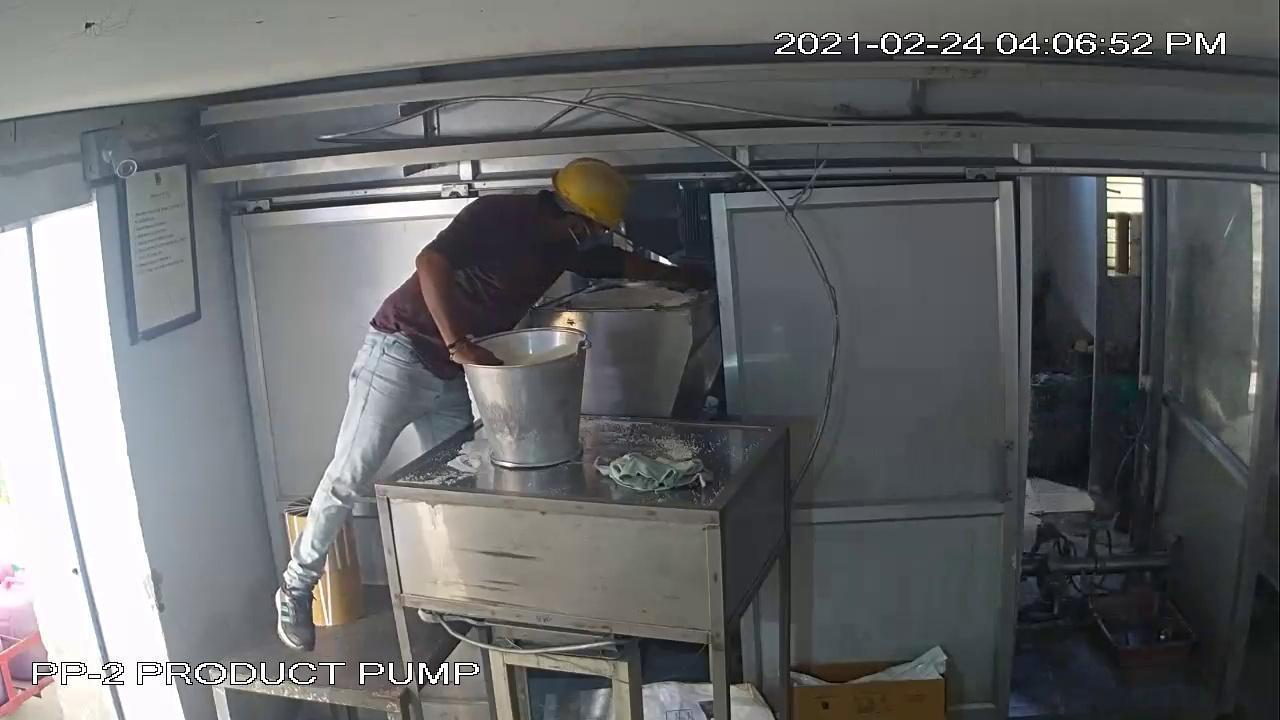helmet: (529, 147, 638, 236)
